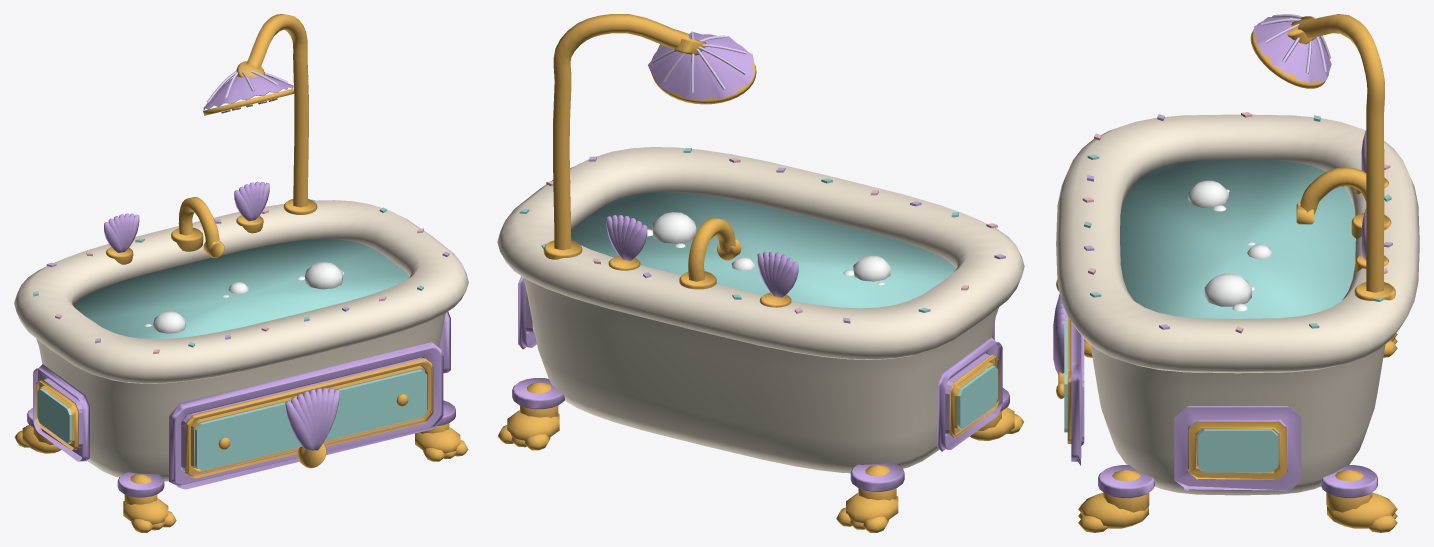
File: bathroom_bathtub.glb
3 renders of one model, left to right at view 1: azimuth 30°, elevation 25°; view 2: azimuth 150°, elevation 25°; view 3: azimuth 270°, elevation 25°, orthographic. The views are drawn at different scales.
Parts seen in each view (by area): view 1: TubPorcelain, TubInterior, TubAccent, TubMetal, TubFoam; view 2: TubPorcelain, TubInterior, TubMetal, TubAccent, TubFoam, TubAccentHighlights; view 3: TubPorcelain, TubInterior, TubMetal, TubAccent, TubFoam, TubAccentHighlights.
Boxes of the visible parts, x1,y1,x2,y2 form: TubPorcelain: (14, 200, 468, 481); TubInterior: (37, 239, 427, 470); TubAccent: (27, 76, 455, 497); TubMetal: (14, 14, 468, 532); TubFoam: (145, 262, 343, 333); TubPorcelain: (497, 147, 1024, 473); TubInterior: (571, 192, 997, 428); TubMetal: (498, 14, 1023, 532); TubAccent: (512, 32, 1009, 491); TubFoam: (647, 212, 890, 285); TubAccentHighlights: (652, 31, 746, 92); TubPorcelain: (1056, 114, 1419, 495); TubInterior: (1064, 159, 1355, 472); TubMetal: (1056, 14, 1397, 532); TubAccent: (1053, 17, 1377, 498); TubFoam: (1188, 180, 1272, 311); TubAccentHighlights: (1261, 14, 1330, 73).
Bounding box in the file's own units: 7.5 × 6.99 × 5.
